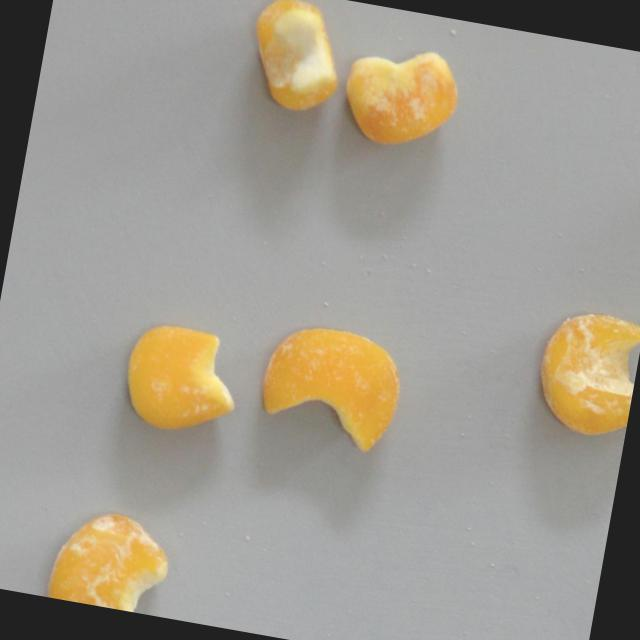dañado: (331, 36, 467, 163)
pelicula: (243, 313, 415, 465), (112, 315, 249, 447), (521, 299, 640, 445), (41, 497, 184, 618), (237, 0, 355, 122)
